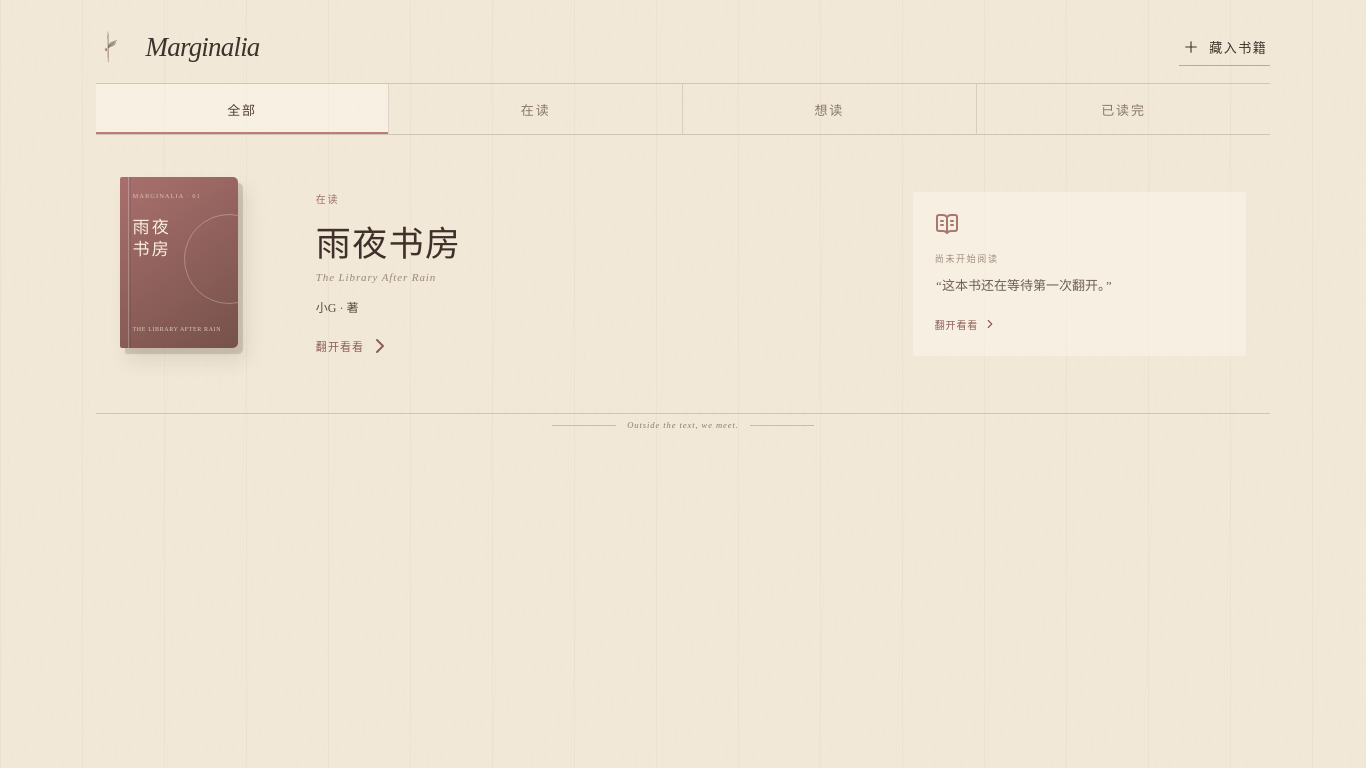
Scenario: Marginalia visual prototype › toggles between the detailed list and the three-column cover shelf
expect the button with aria-label "打开《雨夜书房》" is shown: met, box [316,184,849,364]
expect the text "雨夜书房" is shown: met, box [316,214,461,266]
Click the button with aria-label "切换为封面书架". click: x=203, y=47
box: [146,32,260,62]
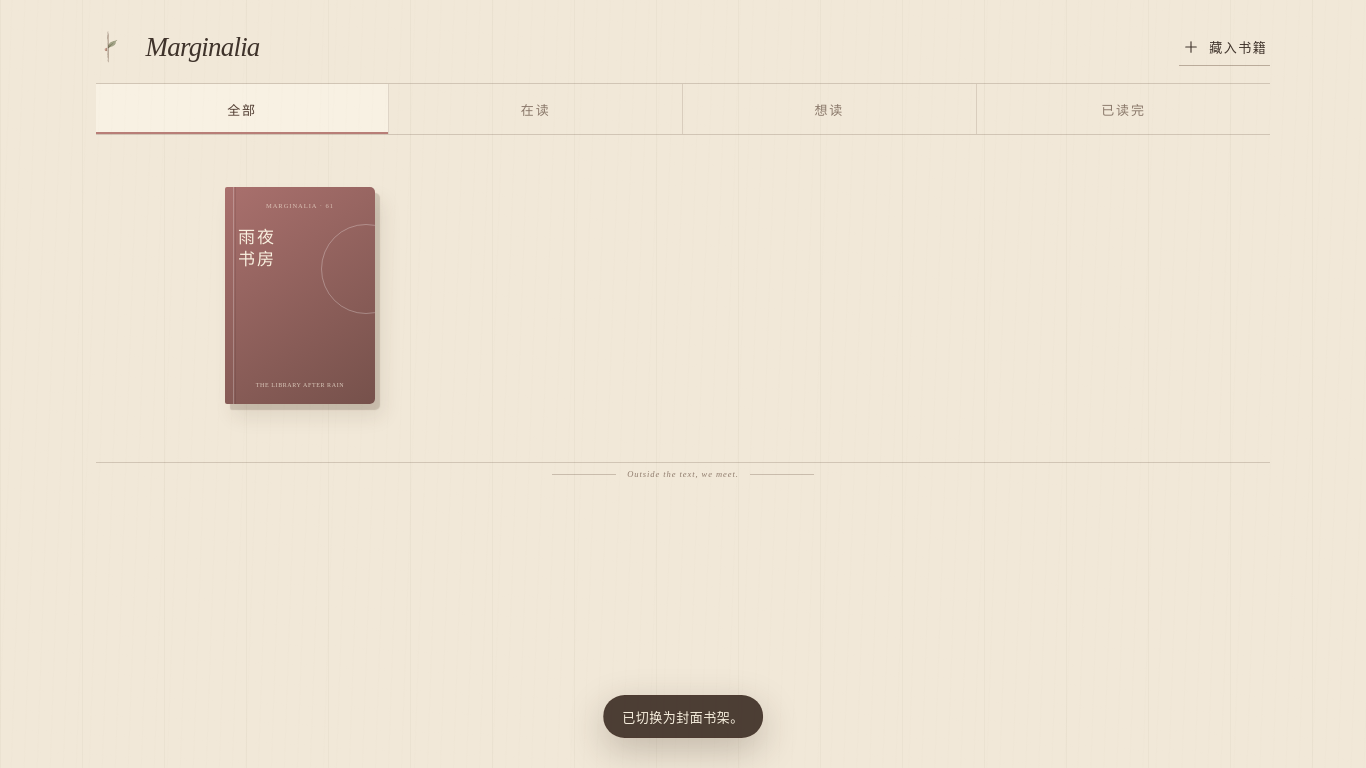
expect the text "雨夜" is shown: met, box [238,228,276,248]
expect the element named "封面书架" is shown: met, box [96,135,1270,463]
expect the button "雨夜书房" is gone: met
